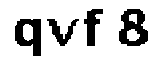8: (115, 8, 151, 49)
f: (83, 4, 106, 49)
q: (11, 17, 43, 60)
v: (46, 16, 78, 48)
